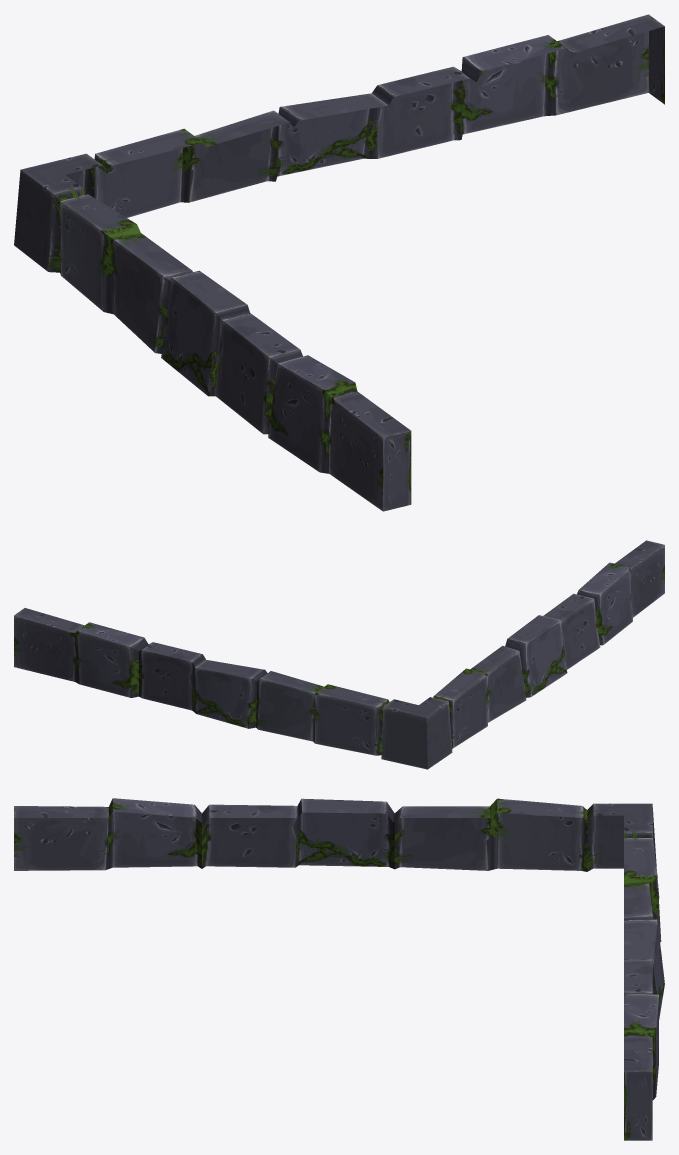
The model's file is MOD_WallTrim_01_M_corner_2.fbx.
The picture shows the model from 3 angles, top to bottom: view 1: azimuth 30°, elevation 25°; view 2: azimuth 150°, elevation 25°; view 3: azimuth 270°, elevation 25°; orthographic projection. The views are drawn at different scales.
Visible parts, largest first — view 1: MOD_WallTrim_01_M_corner_2; view 2: MOD_WallTrim_01_M_corner_2; view 3: MOD_WallTrim_01_M_corner_2.
Boxes of the visible parts, box(x1,y1,x2,y2) form: MOD_WallTrim_01_M_corner_2: box(14, 14, 664, 511); MOD_WallTrim_01_M_corner_2: box(14, 540, 664, 769); MOD_WallTrim_01_M_corner_2: box(14, 798, 664, 1140).
Size of what is drawn, in the model's own units: 454 by 54.99 by 454.
